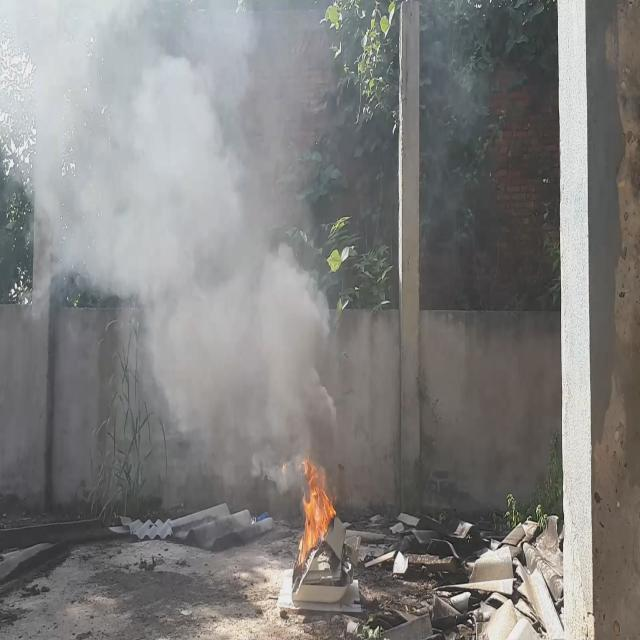Fire: (298, 451, 338, 572)
Smoke: (0, 0, 342, 500)
